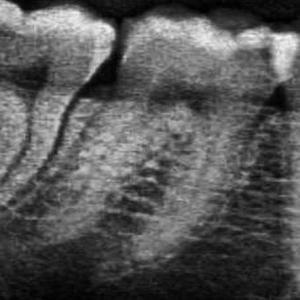tooth: (63, 9, 297, 255), (3, 0, 122, 210)
